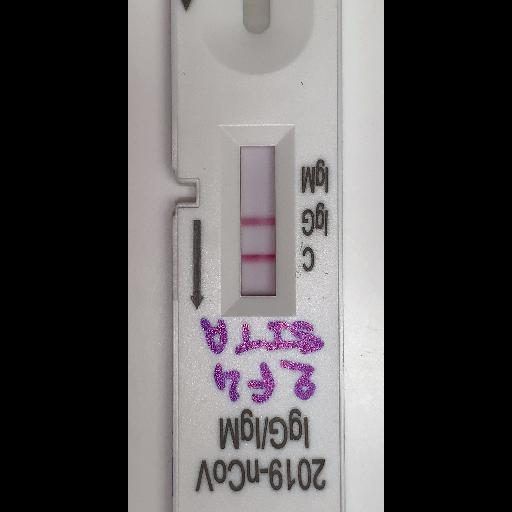Pos: (167, 0, 347, 511)
